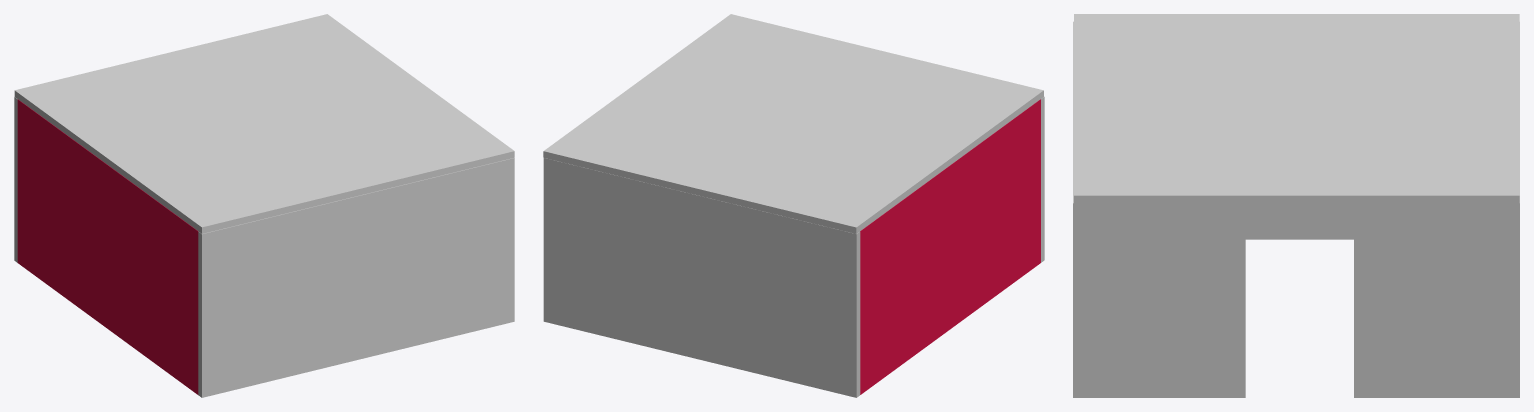
Rendered from Room_Test.gltf.glb.
3 views of the same model, side by side, from view 1: azimuth 30°, elevation 25°; view 2: azimuth 150°, elevation 25°; view 3: azimuth 270°, elevation 25° (orthographic). The views are drawn at different scales.
Visible parts, largest first — view 1: Cube.005, Cube.002, Cube.001, Cube.004; view 2: Cube.005, Cube.004, Cube.001, Cube.002; view 3: Cube.005, Cube.006, Cube.002, Cube.004.
Boxes of the visible parts, box(x1,y1,x2,y2) form: Cube.005: box(14, 14, 514, 233); Cube.002: box(198, 157, 514, 397); Cube.001: box(17, 99, 198, 394); Cube.004: box(14, 97, 17, 262); Cube.005: box(543, 14, 1043, 233); Cube.004: box(543, 158, 860, 397); Cube.001: box(860, 99, 1040, 394); Cube.002: box(1041, 96, 1044, 262); Cube.005: box(1074, 14, 1519, 203); Cube.006: box(1081, 203, 1511, 397); Cube.002: box(1073, 21, 1081, 397); Cube.004: box(1511, 22, 1519, 397).
Size of what is drawn, in the model's own units: 6.82 by 3.55 by 7.09.
